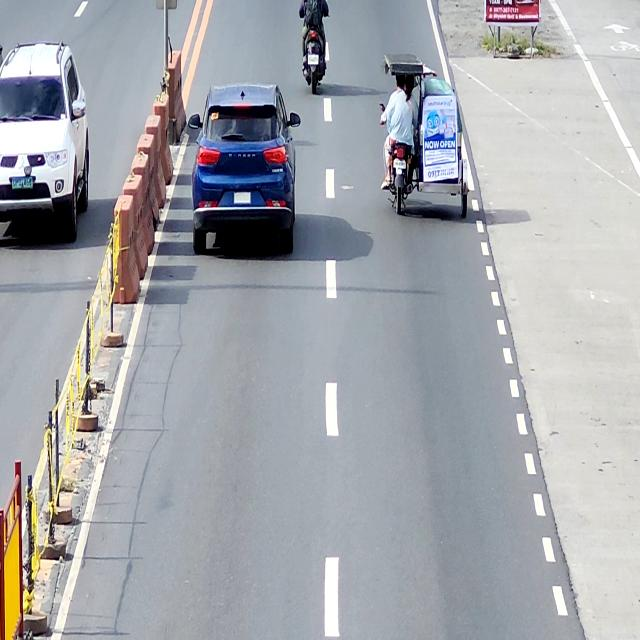Car: (187, 82, 301, 256), (0, 41, 91, 242)
License-Plate: (12, 176, 34, 190), (233, 191, 252, 205), (392, 159, 407, 170), (308, 54, 319, 65)
Motorcycle: (299, 10, 330, 97)
Tricycle: (379, 53, 470, 219)
